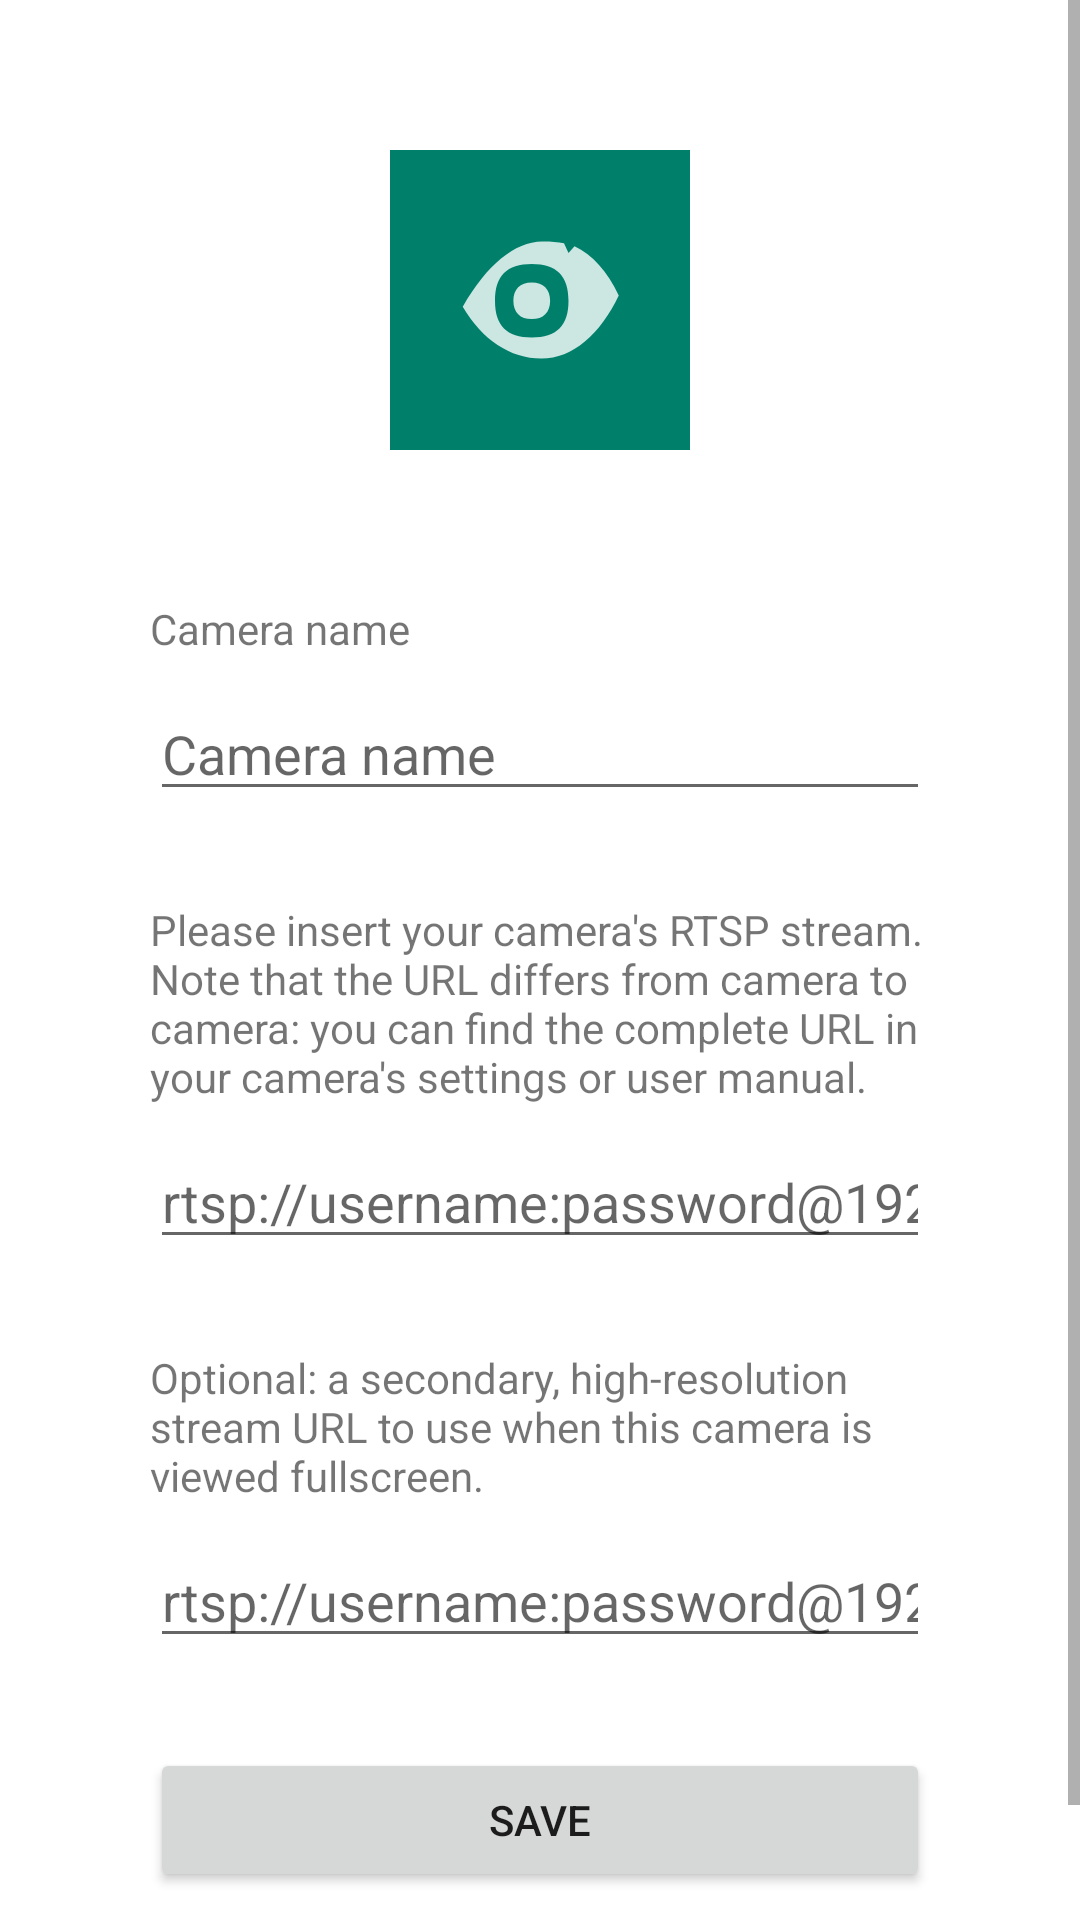

Icons on this 1080*1920 Android screen, each with the point to tap as (x,y):
eye: (540,300)
